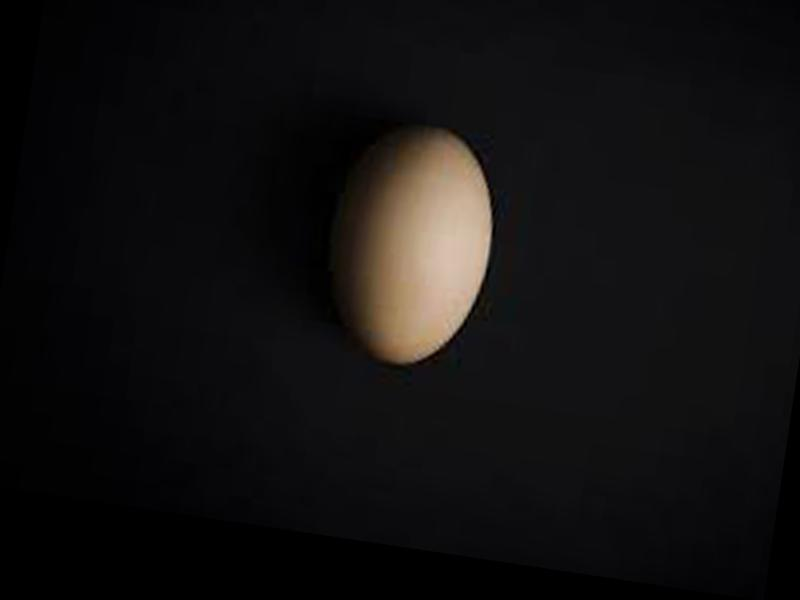Eggs: (317, 111, 506, 380)
